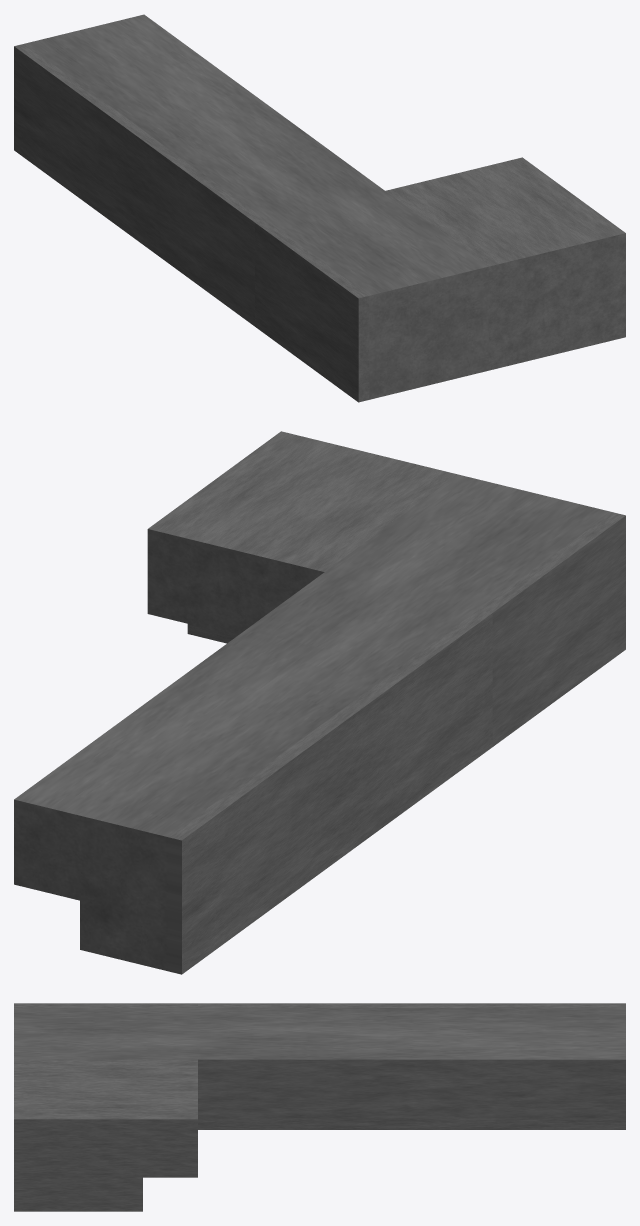
Rendered from mensola.fbx.
The picture shows the model from 3 angles, top to bottom: view 1: azimuth 30°, elevation 25°; view 2: azimuth 150°, elevation 25°; view 3: azimuth 270°, elevation 25°; orthographic projection. The views are drawn at different scales.
Parts seen in each view (by area): view 1: Cube; view 2: Cube; view 3: Cube.
Boxes of the visible parts, box(x1,y1,x2,y2) form: Cube: box(14, 14, 625, 402); Cube: box(14, 431, 625, 974); Cube: box(14, 1003, 625, 1211).
Size of the model in its own units: 134 by 50 by 300.
1 material, 1 textured.
